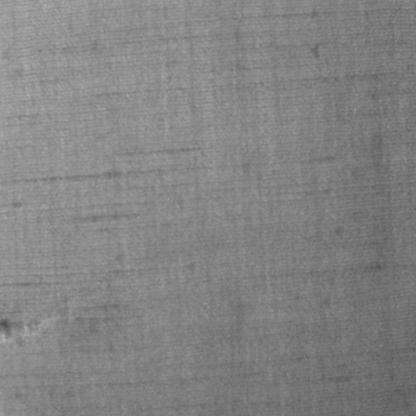thread error: (0, 291, 72, 354)
